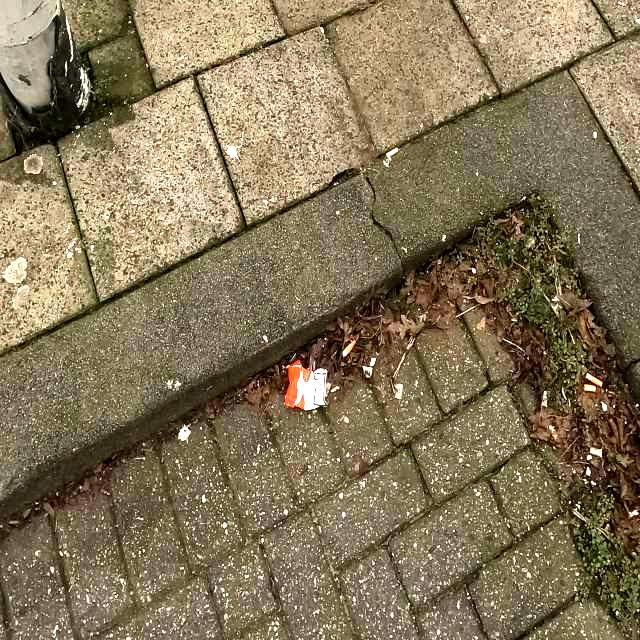Paper: (284, 359, 330, 411)
